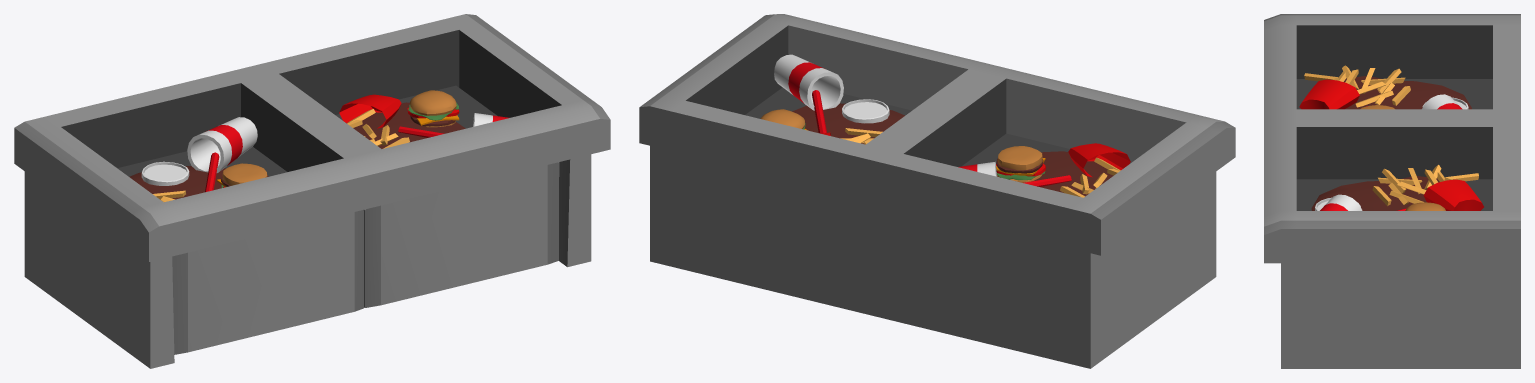
Rendered from trashMachine.fbx.
3 renders of one model, left to right at view 1: azimuth 30°, elevation 25°; view 2: azimuth 150°, elevation 25°; view 3: azimuth 270°, elevation 25°, orthographic. The views are drawn at different scales.
Visible parts, largest first — view 1: Cube.193; view 2: Cube.193; view 3: Cube.193.
Part boxes in pixels (x1,y1,x2,y2): Cube.193: [14, 14, 610, 368]; Cube.193: [639, 14, 1235, 368]; Cube.193: [1264, 14, 1520, 368].
Size of the model in its own units: 200 by 64.27 by 101.
